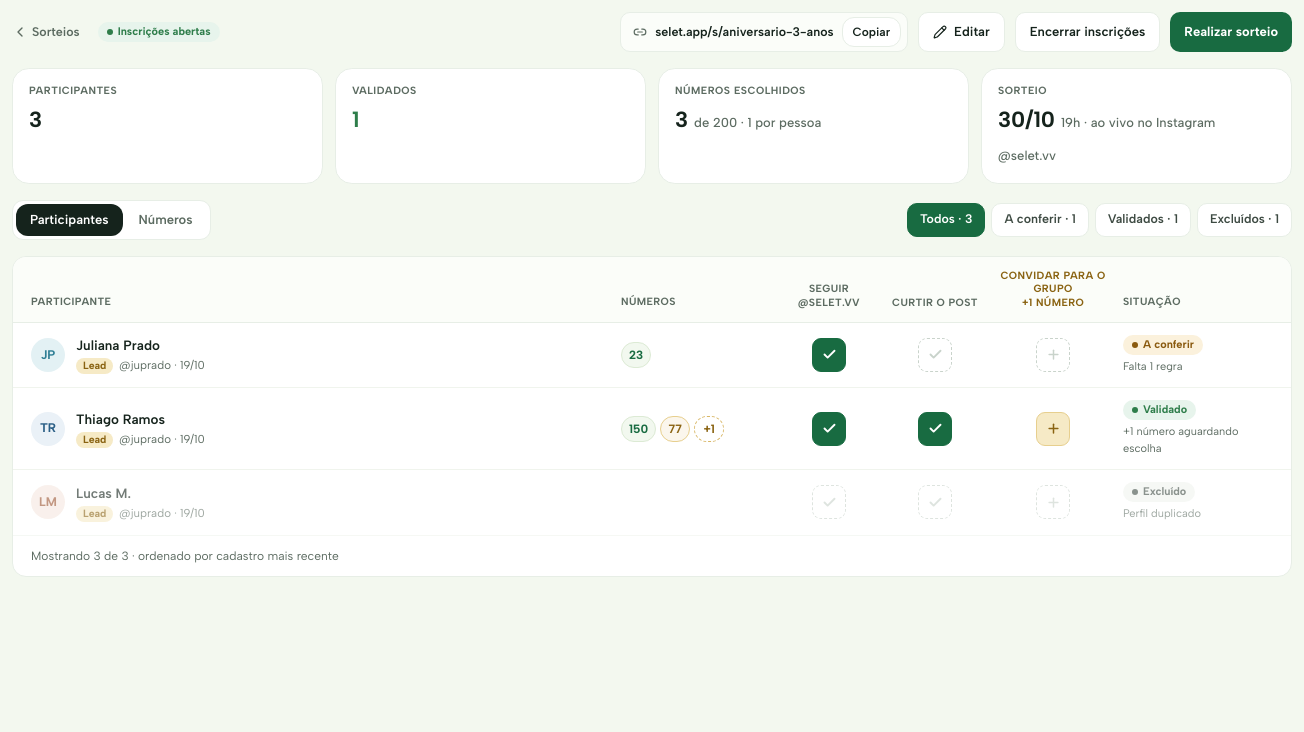
Scenario: RaffleDetailClient › filters the table by situation
What coordinates should you click on to do the following:
click the button "Excluídos · 1"
I would click on:
 (1244, 220)
Its box is [1197,203,1292,237].
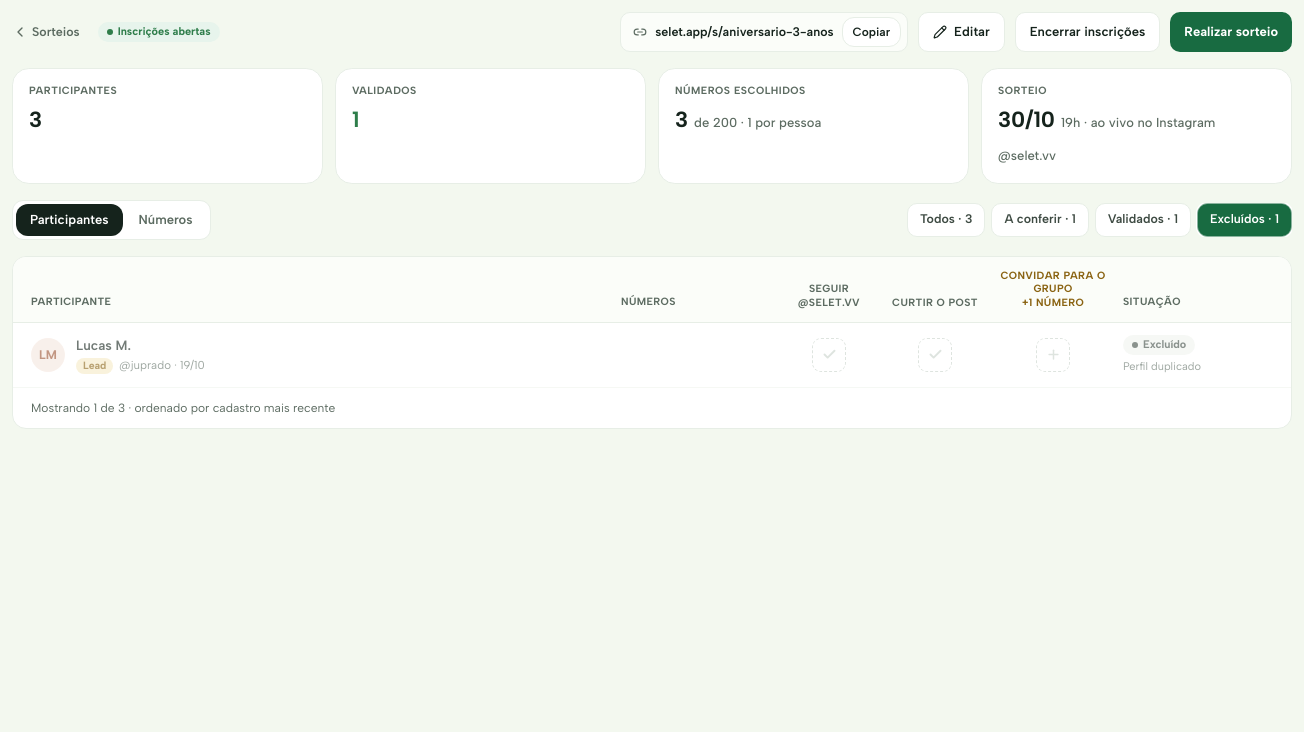
Expected: the button "Lucas M." is shown, [76,335,131,356]
Expected: the button "Juliana Prado" is gone
